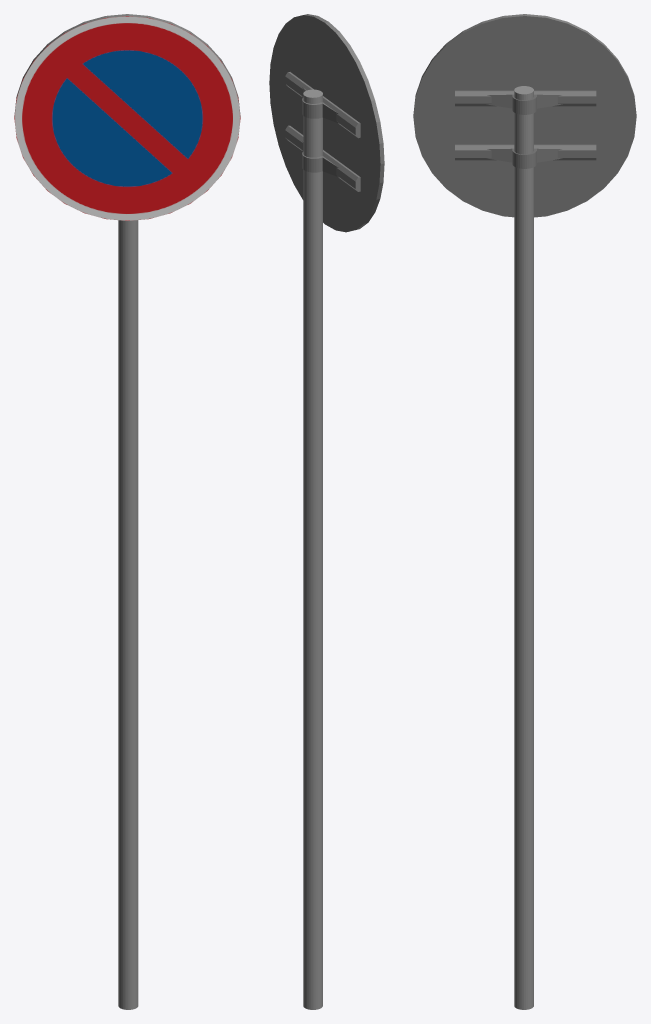
3 views of the same model, side by side, from view 1: azimuth 90°, elevation 25°; view 2: azimuth 210°, elevation 25°; view 3: azimuth 270°, elevation 25° (orthographic).
Visible parts, largest first — view 1: 028, Prop; view 2: Prop, 028; view 3: 028, Prop.
Boxes of the visible parts, <box> form: 028: <box>14,14,240,220</box>; Prop: <box>118,220,138,1009</box>; Prop: <box>285,72,360,1009</box>; 028: <box>269,14,384,232</box>; 028: <box>413,14,636,217</box>; Prop: <box>455,86,596,1009</box>.
Size of the model in its own units: 6.76 by 253 by 52.01.
